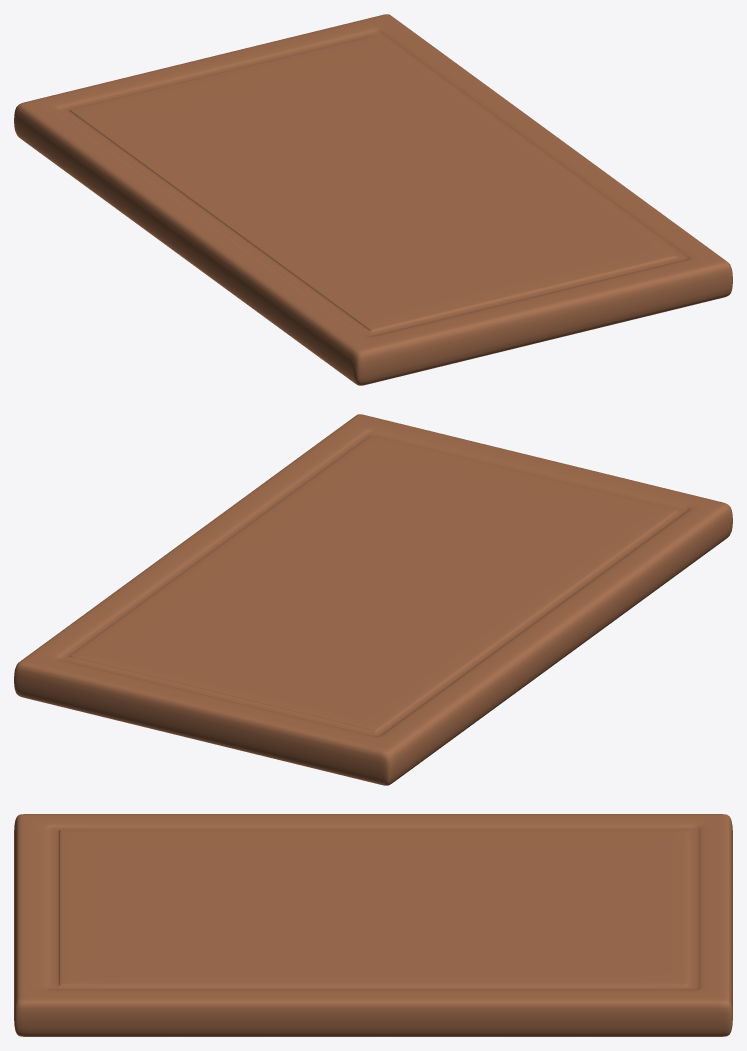
Rendered from Schneidebrett.fbx.
3 renders of one model, top to bottom at view 1: azimuth 30°, elevation 25°; view 2: azimuth 150°, elevation 25°; view 3: azimuth 270°, elevation 25°, orthographic. The views are drawn at different scales.
Visible parts, largest first — view 1: Schneidebrett; view 2: Schneidebrett; view 3: Schneidebrett.
Boxes of the visible parts, x1,y1,x2,y2 form: Schneidebrett: (14,14,732,385); Schneidebrett: (14,414,732,785); Schneidebrett: (14,814,732,1036).
Bounding box in the file's own units: 97.57 × 8.74 × 154.
